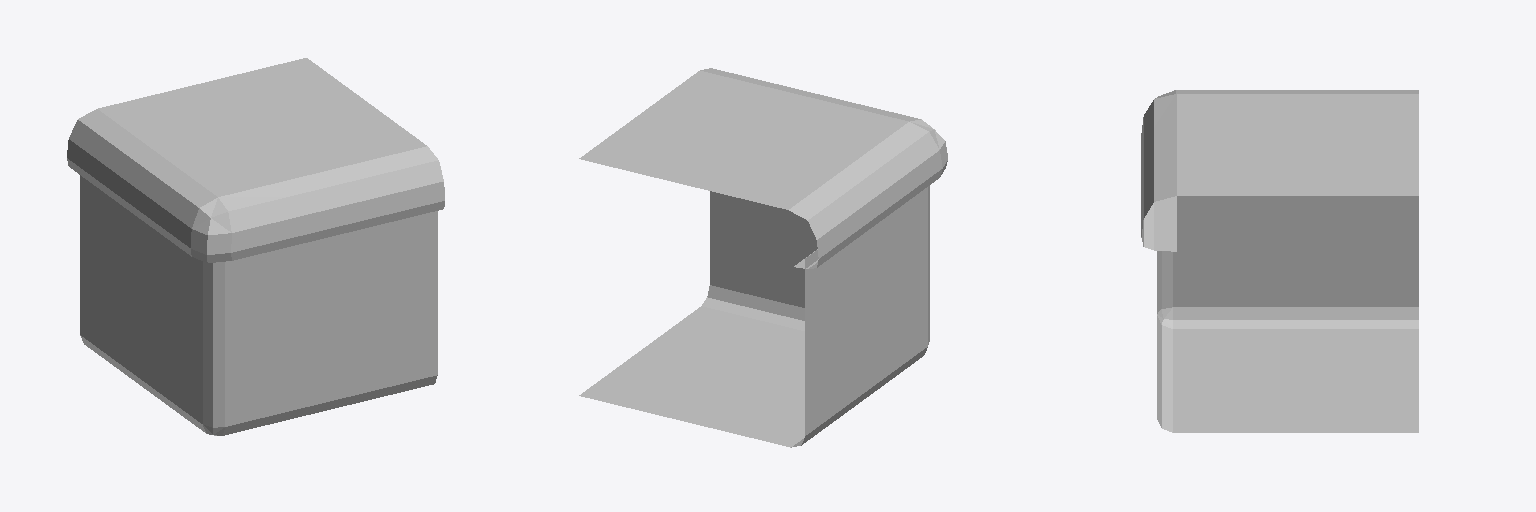
The model's file is cube_grass_corner_single.obj.
3 renders of one model, left to right at view 1: azimuth 30°, elevation 25°; view 2: azimuth 150°, elevation 25°; view 3: azimuth 270°, elevation 25°, orthographic.
Parts seen in each view (by area): view 1: Cube_Grass_Corner_Cube.279; view 2: Cube_Grass_Corner_Cube.279; view 3: Cube_Grass_Corner_Cube.279.
Part boxes in pixels (left/top/right/bottom): Cube_Grass_Corner_Cube.279: left=67, top=58, right=444, bottom=435; Cube_Grass_Corner_Cube.279: left=579, top=68, right=947, bottom=447; Cube_Grass_Corner_Cube.279: left=1141, top=90, right=1418, bottom=432.
Bounding box in the file's own units: 2.12 × 2 × 2.12.